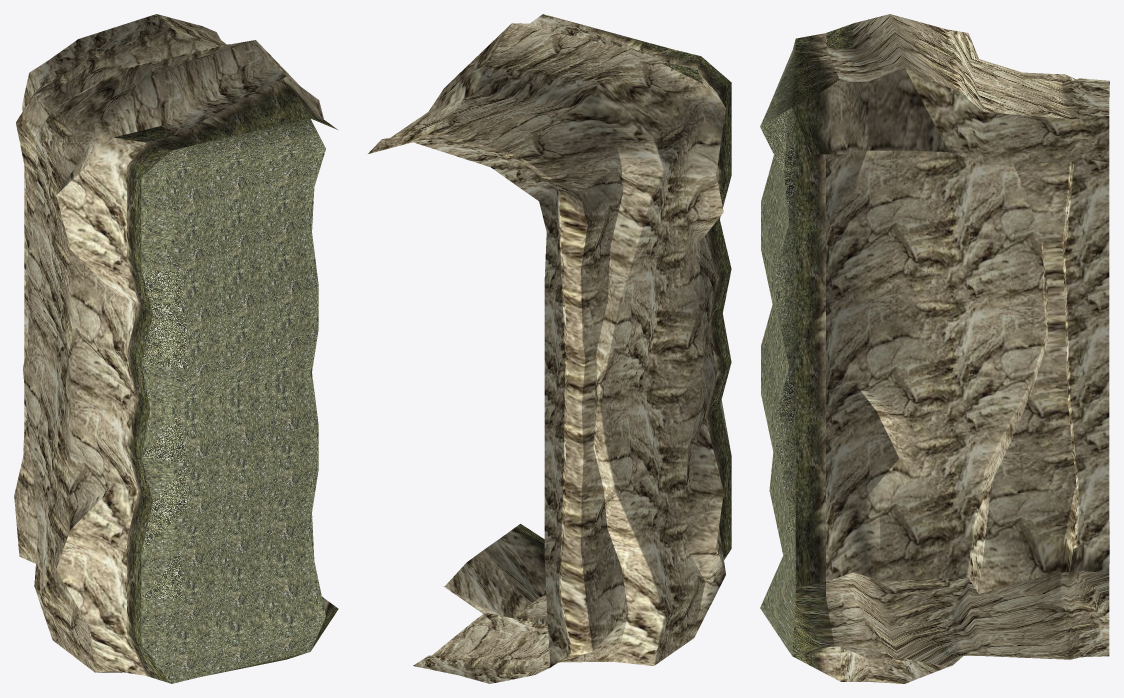
3 views of the same model, side by side, from view 1: azimuth 30°, elevation 25°; view 2: azimuth 150°, elevation 25°; view 3: azimuth 270°, elevation 25° (orthographic). The views are drawn at different scales.
Parts seen in each view (by area): view 1: Box06; view 2: Box06; view 3: Box06.
Part boxes in pixels (x1,y1,x2,y2): Box06: (14,14,338,683); Box06: (368,14,731,683); Box06: (760,14,1109,683).
Size of the model in its own units: 1255 by 2894 by 1489.
